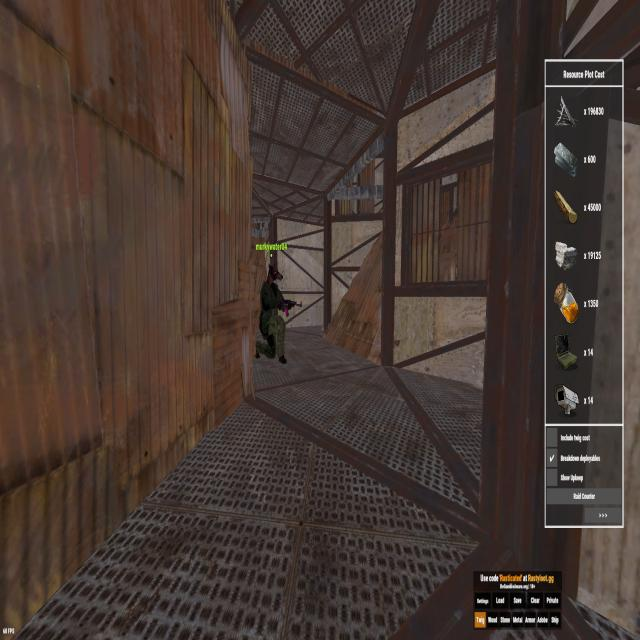Player: (254, 258, 290, 368)
